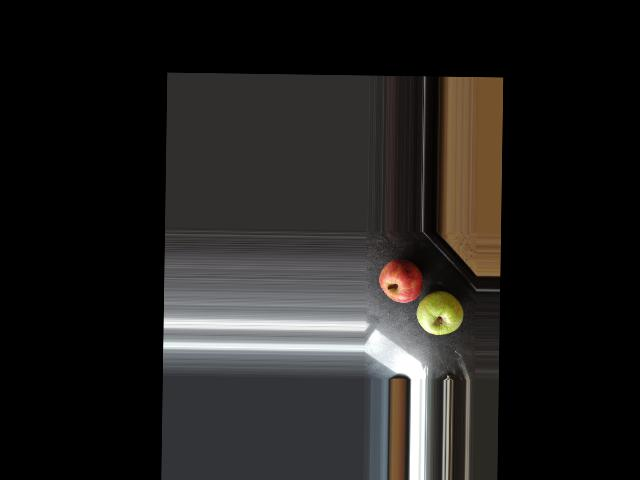apple: (377, 256, 421, 304)
